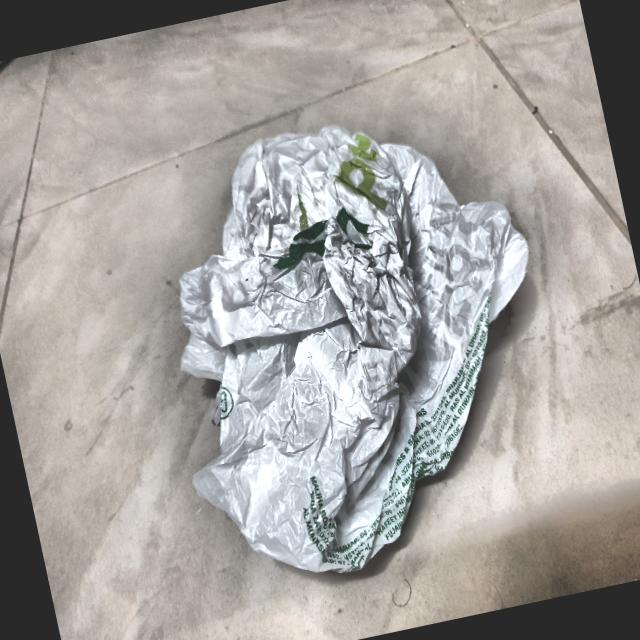plastic bag: (108, 72, 606, 630)
